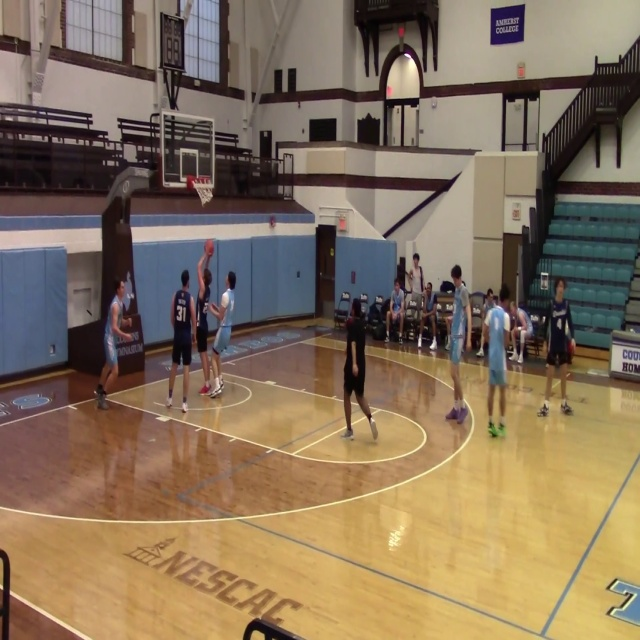Basketball: (204, 239, 214, 255), (203, 269, 212, 286)
